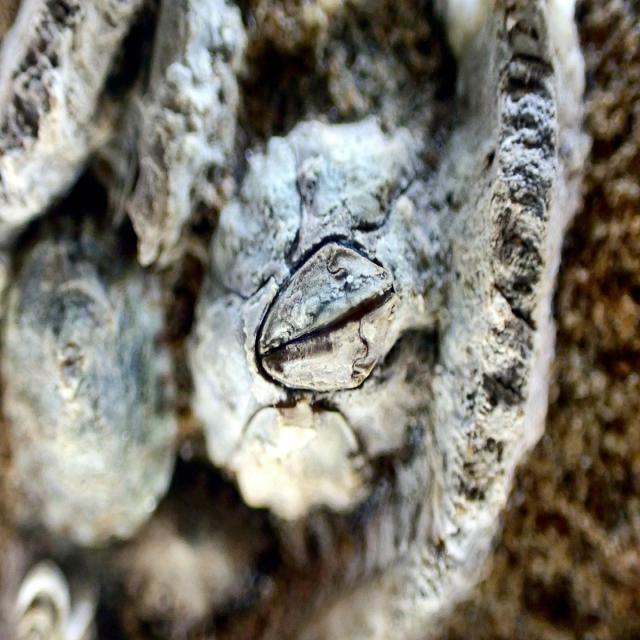barnacles: (202, 128, 444, 527)
